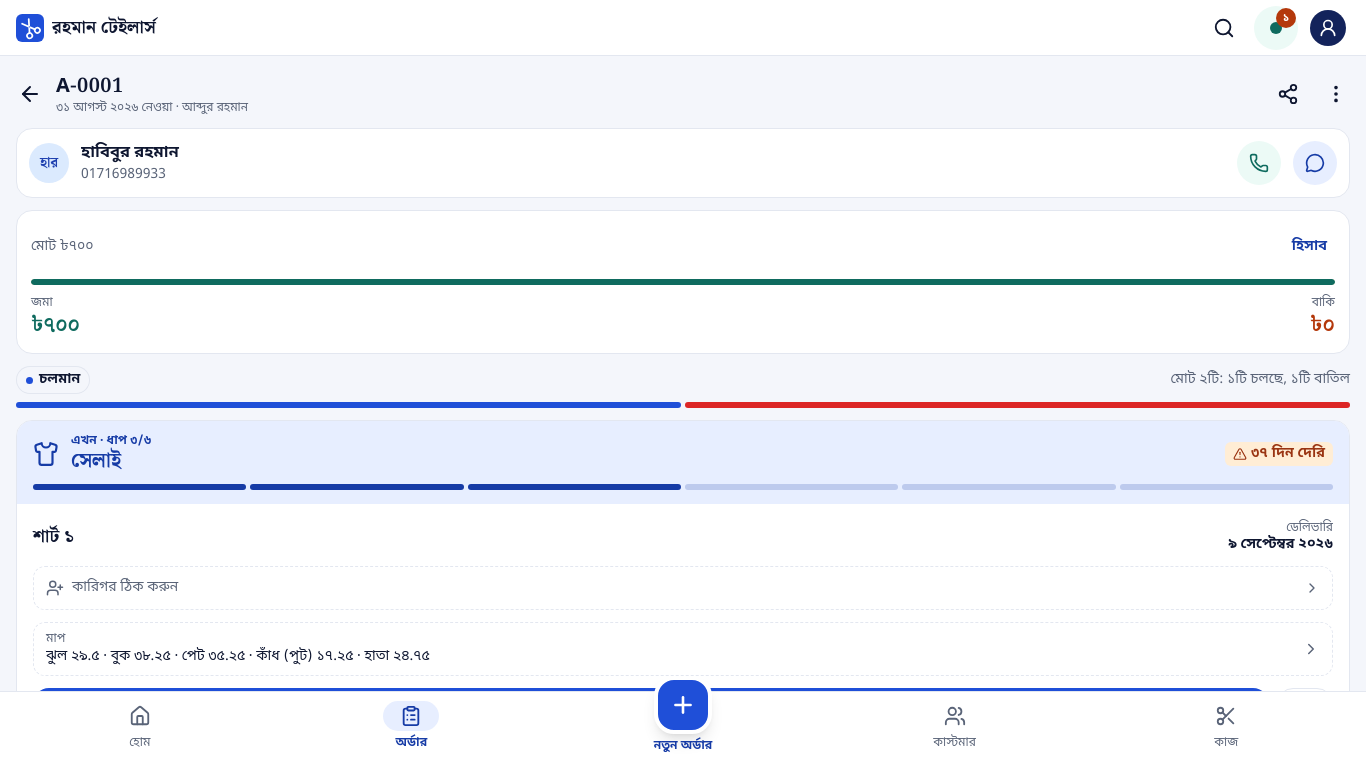
Test case: Order detail on a phone › puts print receipt, job slip, tags and order again in the header menu
The width and height of the screenshot is (1366, 768).
Expected: the heading "A-0001" is shown, [56, 70, 124, 102]
Click the button named "আরও:": (1336,94) [1314, 72, 1358, 116]
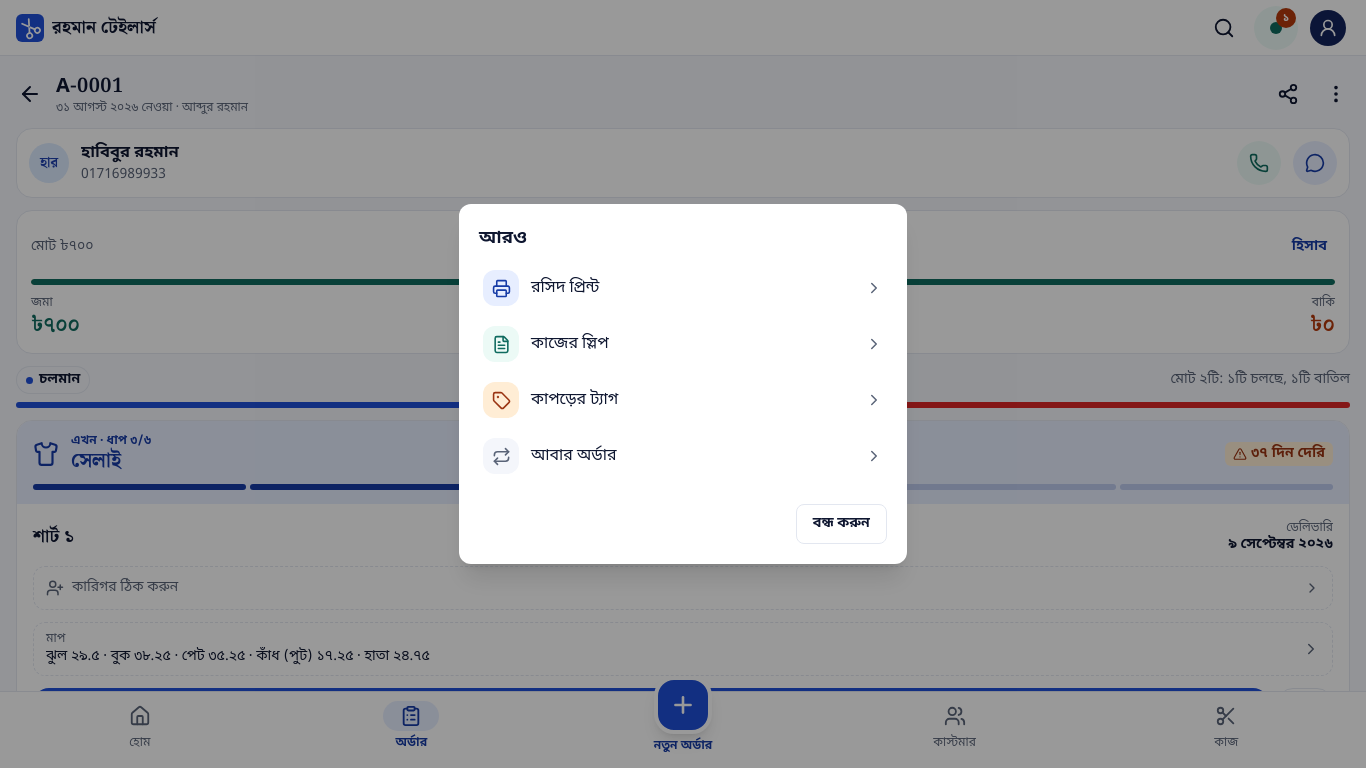
Expected: the link "রসিদ প্রিন্ট" is shown, [479, 260, 887, 316]
Expected: the link "কাজের স্লিপ" is shown, [479, 316, 887, 372]
Expected: the link "কাপড়ের ট্যাগ" is shown, [479, 372, 887, 428]
Click the button "বন্ধ করুন": (841,524) [796, 504, 887, 544]
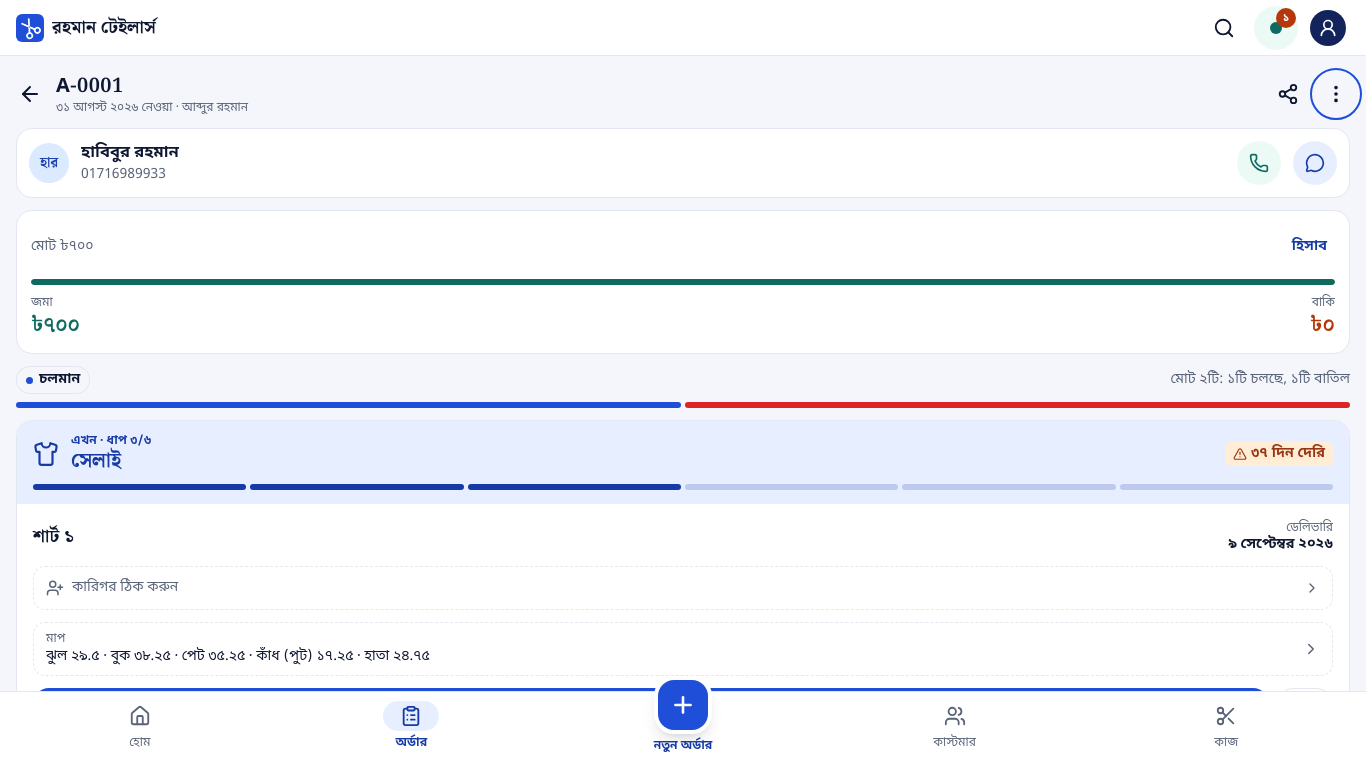
Expected: the dialog is gone
